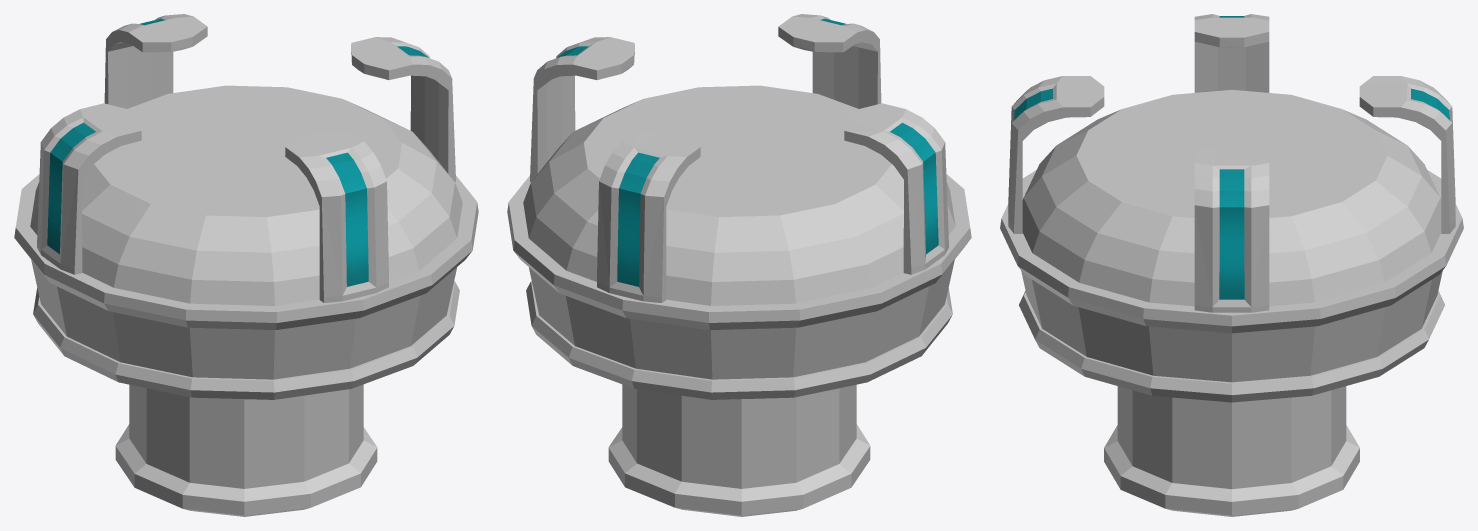
The model's file is Mining_base_top.fbx.
3 renders of one model, left to right at view 1: azimuth 30°, elevation 25°; view 2: azimuth 150°, elevation 25°; view 3: azimuth 270°, elevation 25°, orthographic.
Visible parts, largest first — view 1: Mining_base_top; view 2: Mining_base_top; view 3: Mining_base_top.
Boxes of the visible parts, x1,y1,x2,y2 form: Mining_base_top: [14, 14, 478, 516]; Mining_base_top: [507, 14, 971, 516]; Mining_base_top: [1000, 14, 1463, 516].
Size of the model in its own units: 11.83 by 10.61 by 11.83.
